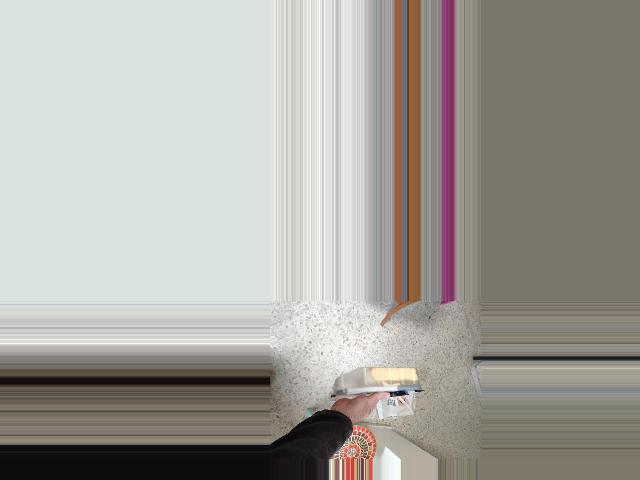cheese: (315, 343, 414, 439)
